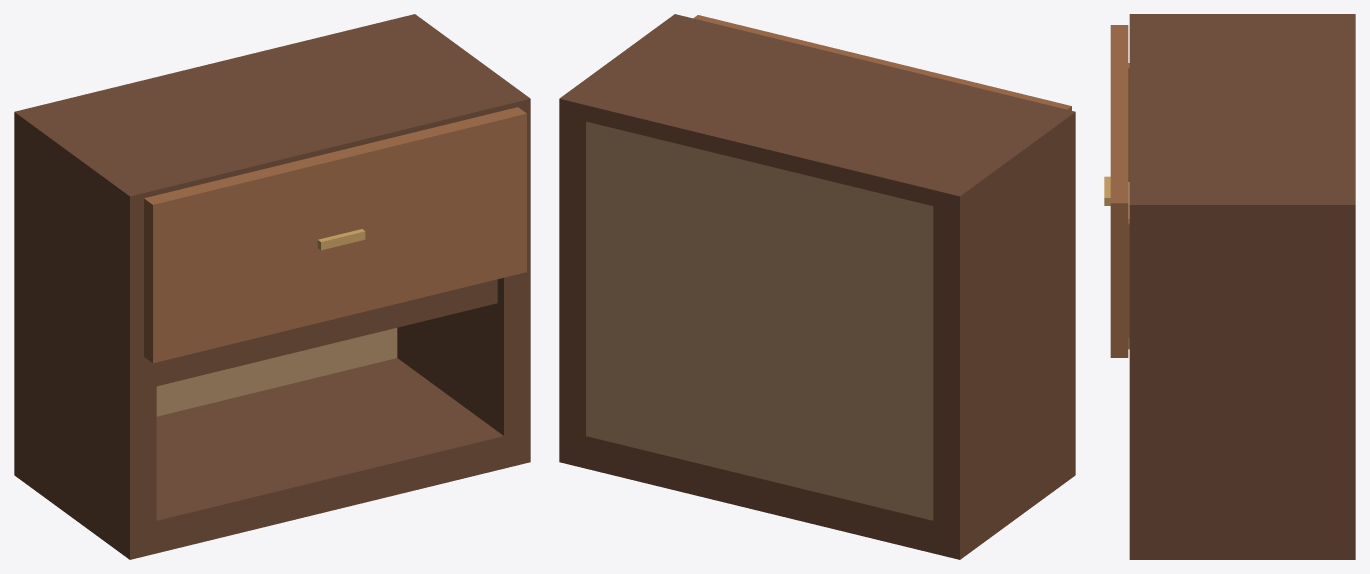
The model's file is host.glb.
3 renders of one model, left to right at view 1: azimuth 30°, elevation 25°; view 2: azimuth 150°, elevation 25°; view 3: azimuth 270°, elevation 25°, orthographic. The views are drawn at different scales.
Parts seen in each view (by area): view 1: drawer-front, cabinet-top, cabinet-bottom, cabinet-side-left, cabinet-side-right, cabinet-drawer-divider, cabinet-inner-back; view 2: cabinet-inner-back, cabinet-top, cabinet-side-left, cabinet-bottom, cabinet-side-right, drawer-front; view 3: cabinet-side-right, cabinet-top, cabinet-bottom, drawer-front.
Part boxes in pixels (left/top/right/bottom): drawer-front: left=144, top=107, right=526, bottom=363; cabinet-top: left=14, top=14, right=530, bottom=212; cabinet-bottom: left=14, top=358, right=530, bottom=559; cabinet-side-left: left=14, top=128, right=156, bottom=527; cabinet-side-right: left=397, top=115, right=530, bottom=435; cabinet-drawer-divider: left=156, top=279, right=497, bottom=386; cabinet-inner-back: left=156, top=328, right=397, bottom=416; cabinet-inner-back: left=586, top=121, right=933, bottom=520; cabinet-top: left=559, top=14, right=1075, bottom=212; cabinet-side-left: left=933, top=128, right=1075, bottom=527; cabinet-bottom: left=559, top=429, right=1075, bottom=559; cabinet-side-right: left=559, top=115, right=585, bottom=435; drawer-front: left=693, top=15, right=1071, bottom=110; cabinet-side-right: left=1129, top=221, right=1355, bottom=527; cabinet-top: left=1129, top=14, right=1355, bottom=220; cabinet-bottom: left=1129, top=528, right=1355, bottom=559; drawer-front: left=1110, top=25, right=1128, bottom=357.
Bounding box in the file's own units: 0.9 × 0.78 × 0.5.
